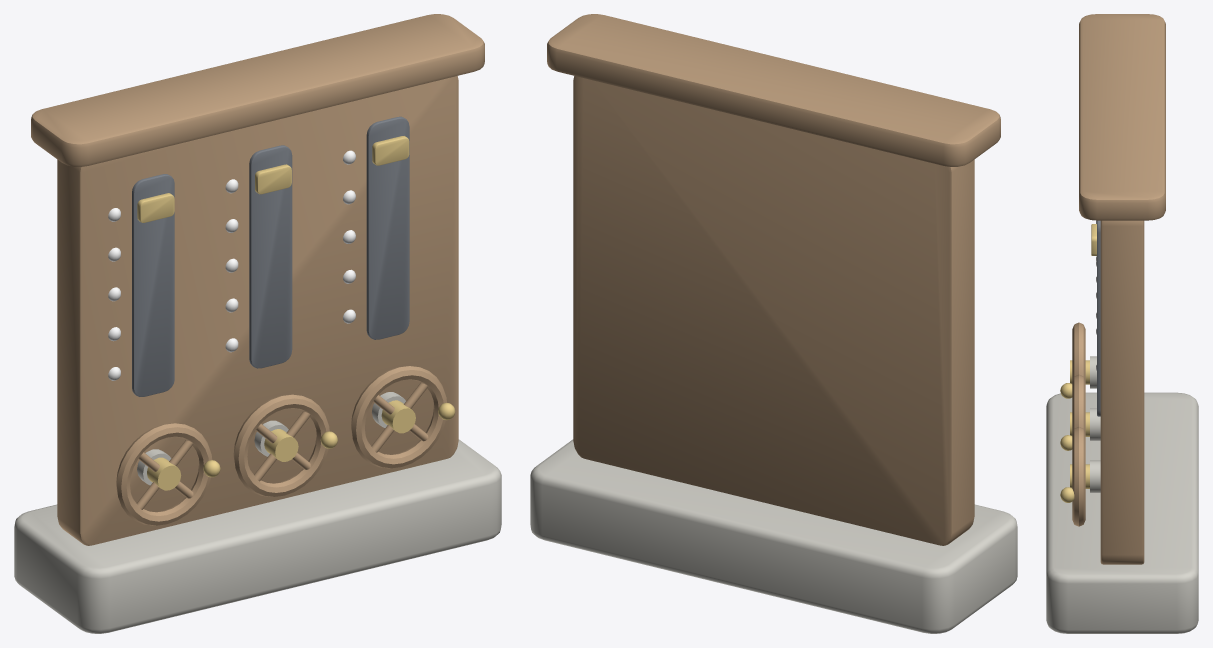
Rendered from SM_IncSluice.fbx.
The picture shows the model from 3 angles, left to right: view 1: azimuth 30°, elevation 25°; view 2: azimuth 150°, elevation 25°; view 3: azimuth 270°, elevation 25°; orthographic projection. The views are drawn at different scales.
Visible parts, largest first — view 1: IncSluice, Wheel2, Wheel1, Wheel0, Gate0, Gate2, Gate1; view 2: IncSluice; view 3: IncSluice, Wheel2, Wheel1, Wheel0.
Part boxes in pixels (<box>): IncSluice: <box>14,14,501,633</box>; Wheel2: <box>351,366,455,468</box>; Wheel1: <box>233,394,337,496</box>; Wheel0: <box>116,423,220,525</box>; Gate0: <box>137,193,174,222</box>; Gate2: <box>372,136,409,165</box>; Gate1: <box>255,164,291,194</box>; IncSluice: <box>530,14,1017,633</box>; IncSluice: <box>1046,14,1198,633</box>; Wheel2: <box>1060,427,1089,526</box>; Wheel1: <box>1060,374,1089,450</box>; Wheel0: <box>1060,322,1089,398</box>.
Size of the model in its own units: 1.22 by 1.33 by 0.42.
